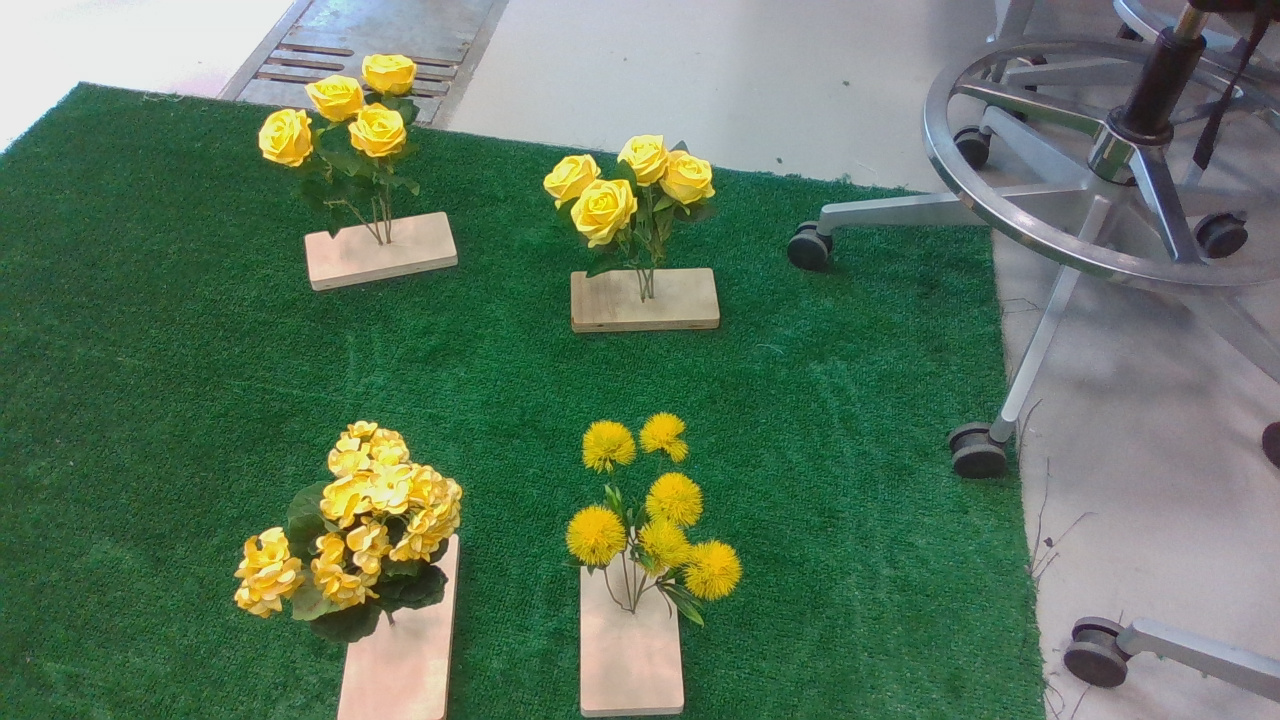dandelion: (566, 414, 757, 640)
geranium: (233, 418, 475, 659)
rose: (530, 137, 725, 299), (255, 53, 433, 217)
